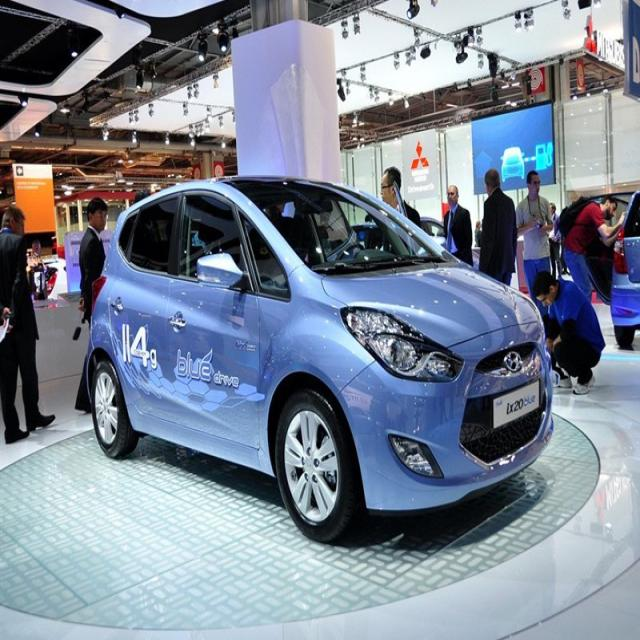back_right_side_light: (88, 271, 107, 322)
door: (110, 190, 183, 430)
front_bumper: (334, 330, 557, 514)
front_glass: (222, 177, 458, 274)
front_right_side_door: (170, 184, 266, 456)
front_right_side_light: (342, 301, 464, 386)
front_right_side_mirror: (197, 250, 248, 297)
wheel: (276, 388, 361, 544), (90, 352, 140, 462)
